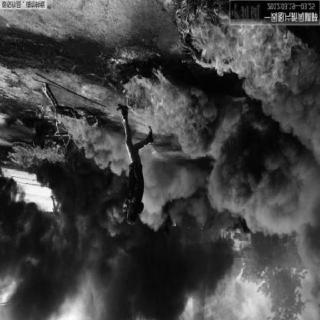Fire: (119, 76, 209, 140)
